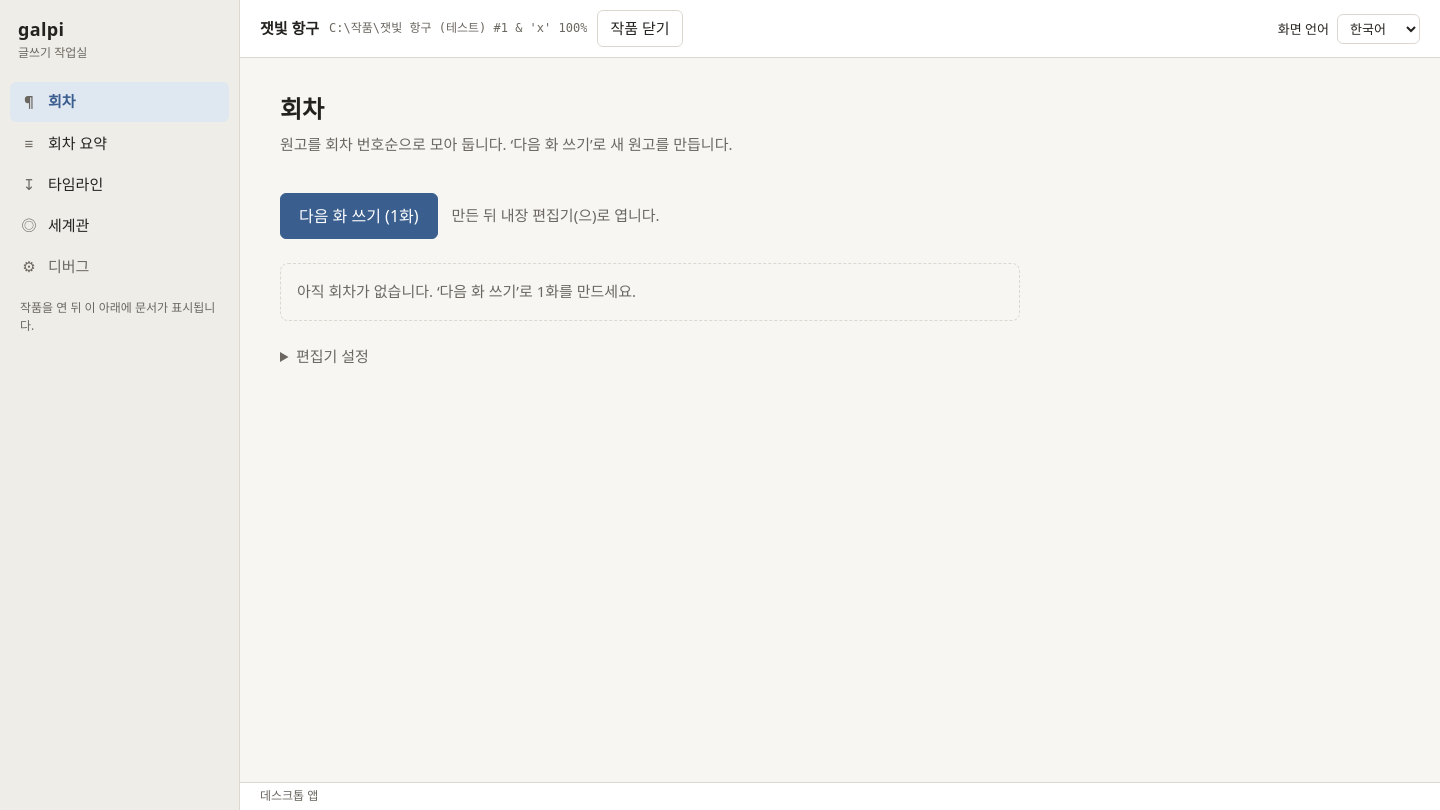
Test: episodes › built-in editor as default reports it is not ready yet and offers others
Expected: the text "잿빛 항구" is shown, [260,17,319,40]
Expected: the text "만든 뒤 내장 편집기(으)로 엽니다." is shown, [452,204,660,228]
Click the button "다음 화 쓰기 (1화)" at (359, 216), box [280,193,438,240]
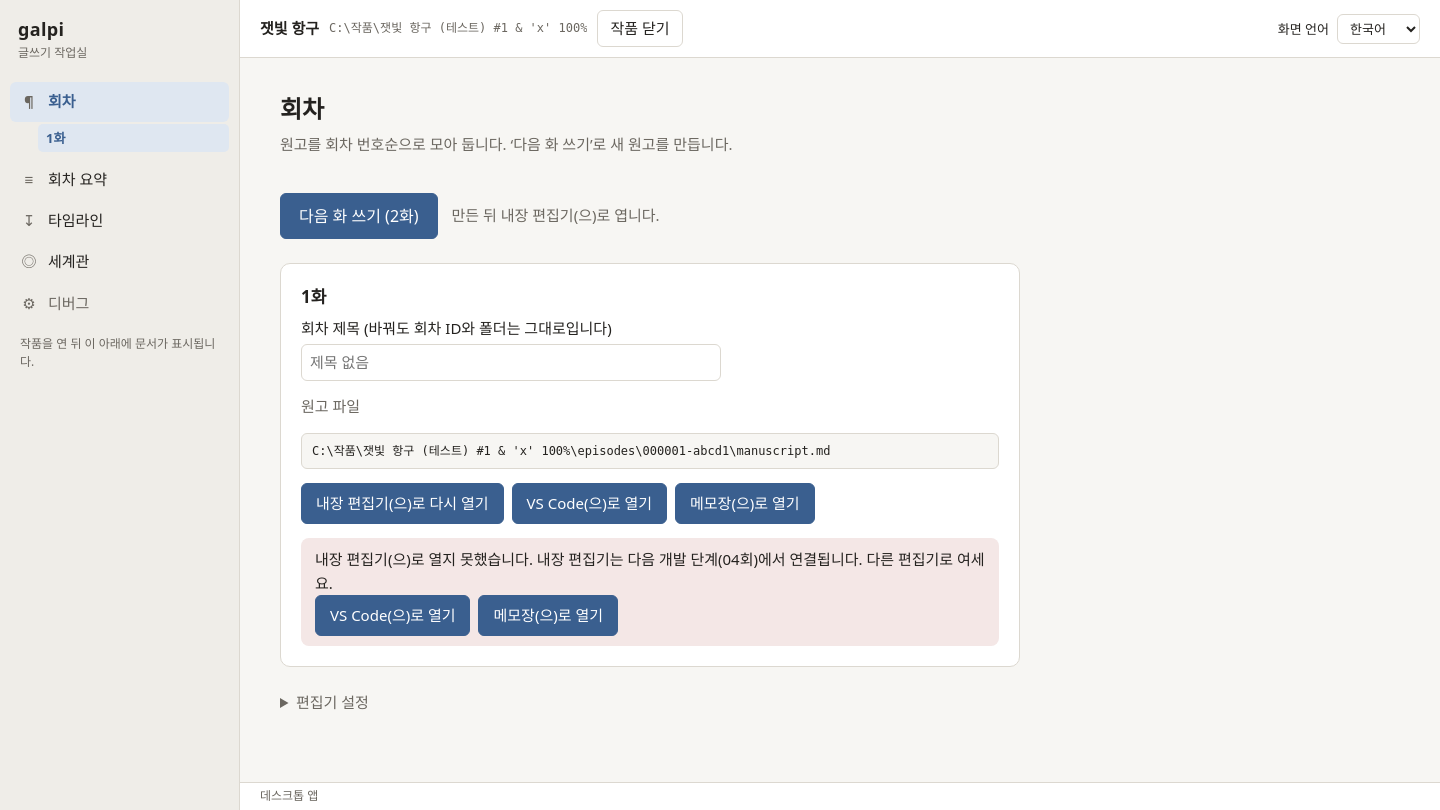
Now the text "04회" is shown, box [315,549,985,593]
Now the 1st button "VS Code(으)로 열기" is shown, box [512,483,667,524]
